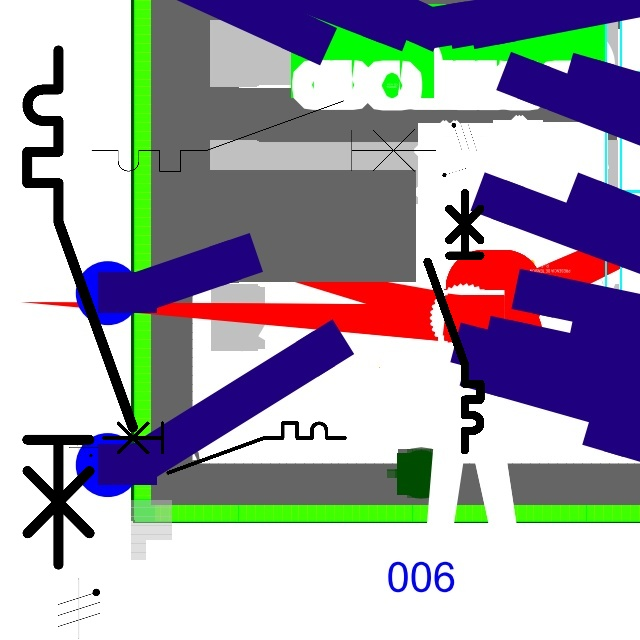interruptor_termomagnetico: (14, 37, 146, 577), (83, 92, 444, 180), (421, 186, 487, 456), (97, 417, 350, 479)
